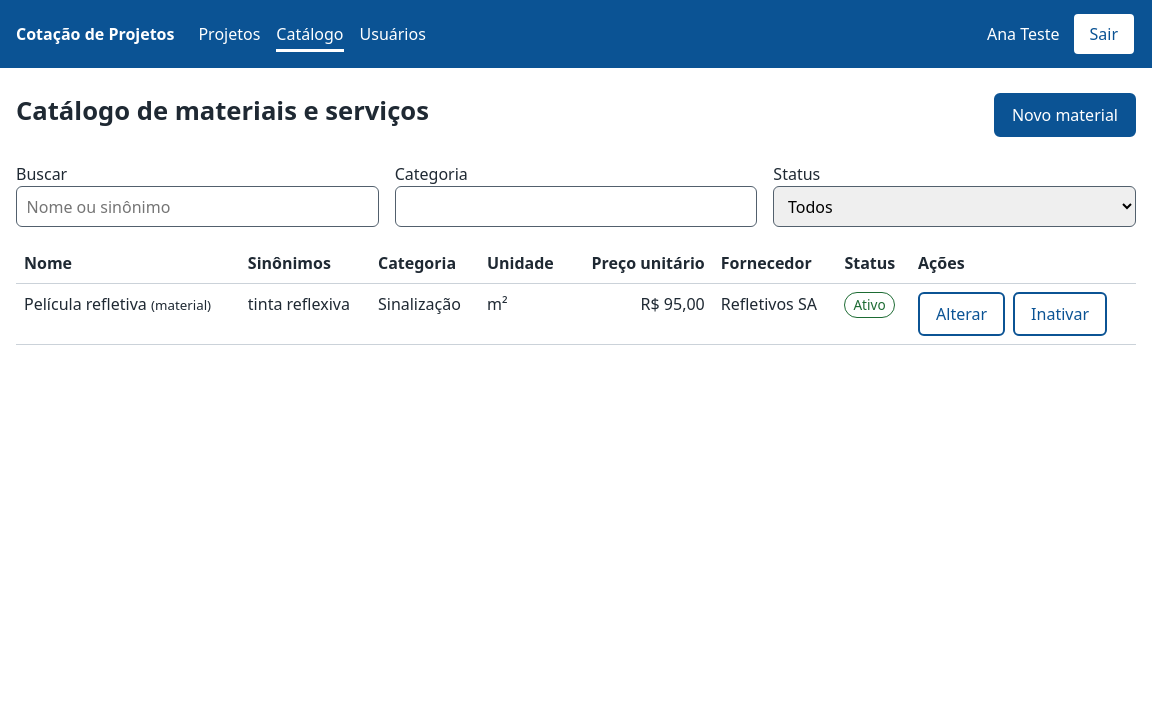
Test: Catálogo para o Admin › mostra no campo nome a duplicidade apontada pela API (RN10)
Click the button with aria-label "Alterar Película refletiva" at (962, 314), box [918,292,1005,336]
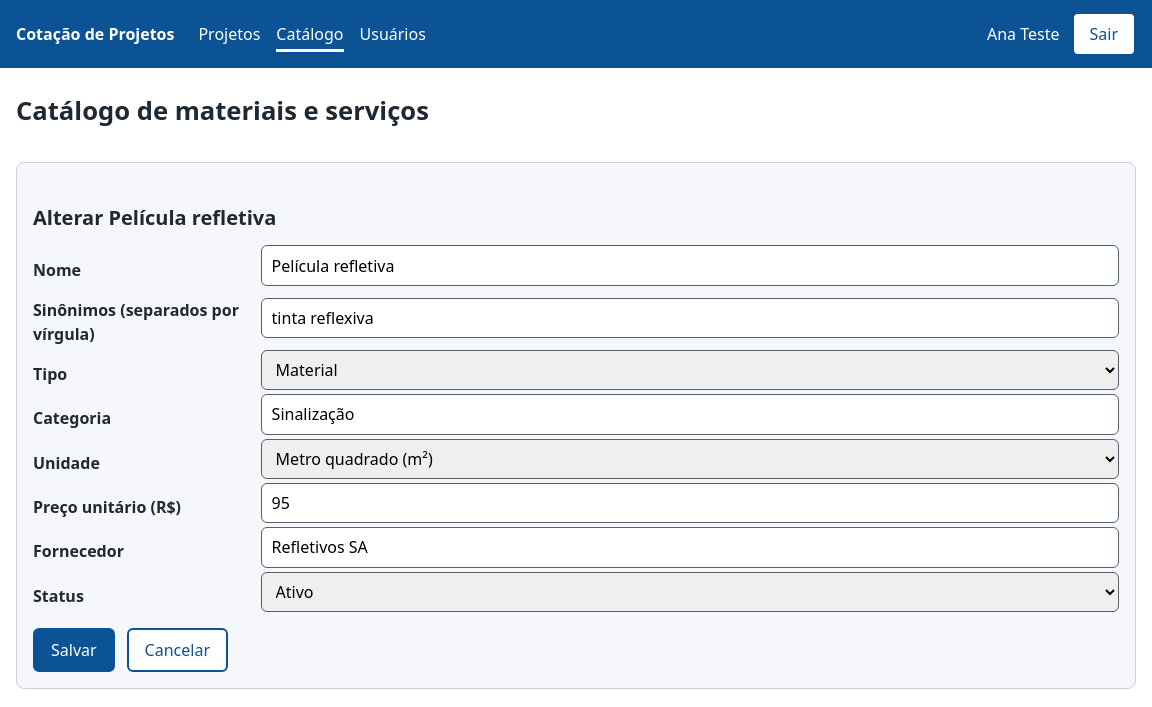
Expected: the dropdown labelled "Status" shows "Ativo", [261,572,1119,612]
Click the button "Salvar" at (74, 650), box [33,628,115,672]
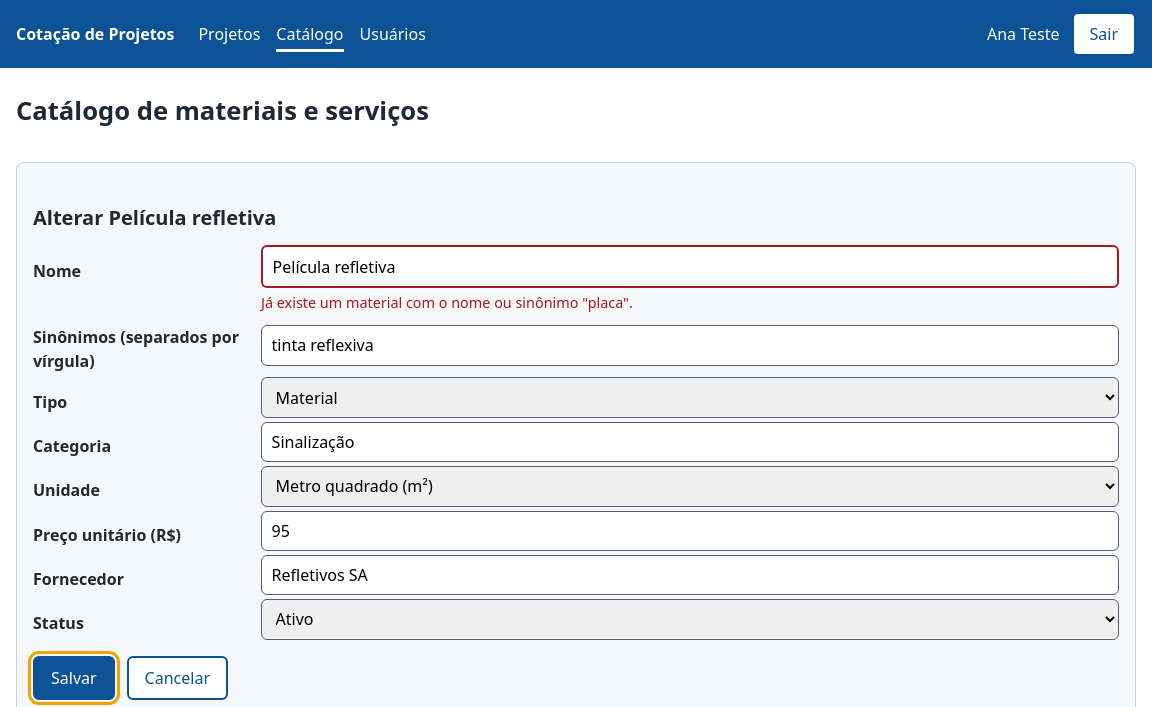
Expected: the text "Já existe um material com o nome ou sinônimo \"placa\"." is shown, [261,293,633,312]
